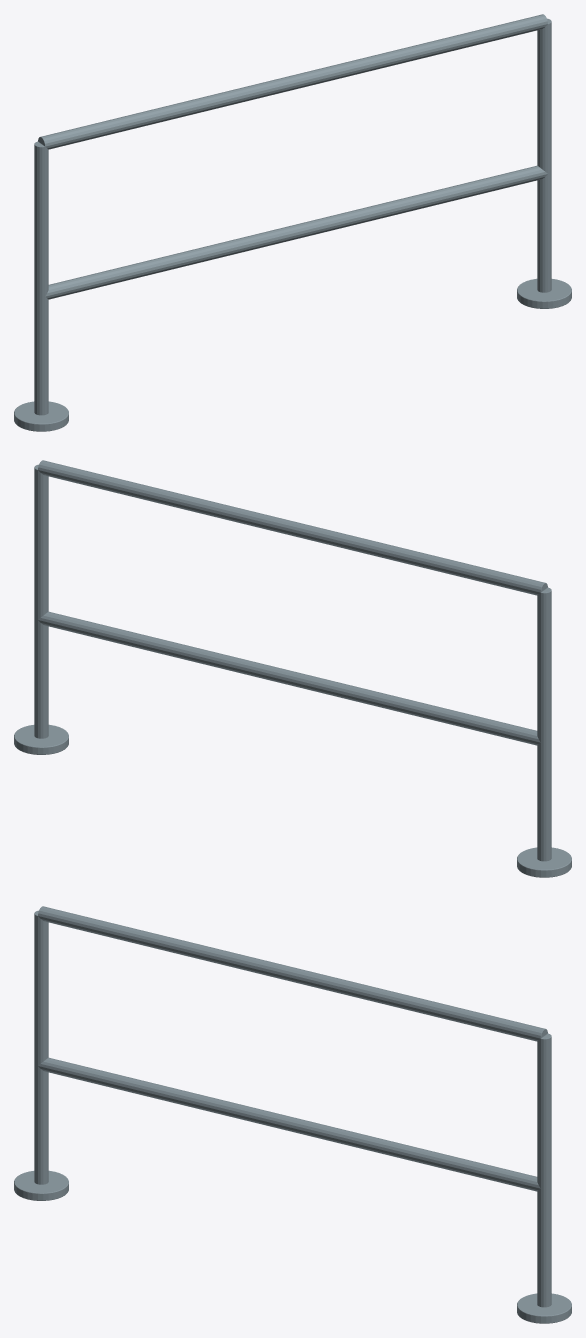
The picture shows the model from 3 angles, top to bottom: view 1: azimuth 30°, elevation 25°; view 2: azimuth 150°, elevation 25°; view 3: azimuth 330°, elevation 25°; orthographic projection.
Visible parts, largest first — view 1: RAIL_Horizontal.001, RAIL_Horizontal, RAIL_Post, RAIL_Post.001, MOUNT_Foot, MOUNT_Foot.001; view 2: RAIL_Horizontal.001, RAIL_Horizontal, RAIL_Post, RAIL_Post.001, MOUNT_Foot, MOUNT_Foot.001; view 3: RAIL_Horizontal.001, RAIL_Horizontal, RAIL_Post.001, RAIL_Post, MOUNT_Foot.001, MOUNT_Foot.
Boxes of the visible parts, x1=… form: RAIL_Horizontal.001: x1=38, y1=14, x2=547, y2=149; RAIL_Horizontal: x1=45, y1=165, x2=547, y2=299; RAIL_Post: x1=34, y1=141, x2=48, y2=415; RAIL_Post.001: x1=537, y1=18, x2=551, y2=292; MOUNT_Foot: x1=14, y1=401, x2=68, y2=431; MOUNT_Foot.001: x1=517, y1=278, x2=571, y2=308; RAIL_Horizontal.001: x1=38, y1=460, x2=547, y2=595; RAIL_Horizontal: x1=38, y1=611, x2=540, y2=745; RAIL_Post: x1=537, y1=587, x2=551, y2=861; RAIL_Post.001: x1=34, y1=464, x2=48, y2=738; MOUNT_Foot: x1=517, y1=847, x2=571, y2=877; MOUNT_Foot.001: x1=14, y1=724, x2=68, y2=754; RAIL_Horizontal.001: x1=38, y1=906, x2=547, y2=1041; RAIL_Horizontal: x1=38, y1=1057, x2=540, y2=1191; RAIL_Post.001: x1=537, y1=1033, x2=551, y2=1307; RAIL_Post: x1=34, y1=910, x2=48, y2=1184; MOUNT_Foot.001: x1=517, y1=1293, x2=571, y2=1323; MOUNT_Foot: x1=14, y1=1170, x2=68, y2=1200.
Size of the model in its own units: 2.19 by 1.08 by 0.19.
